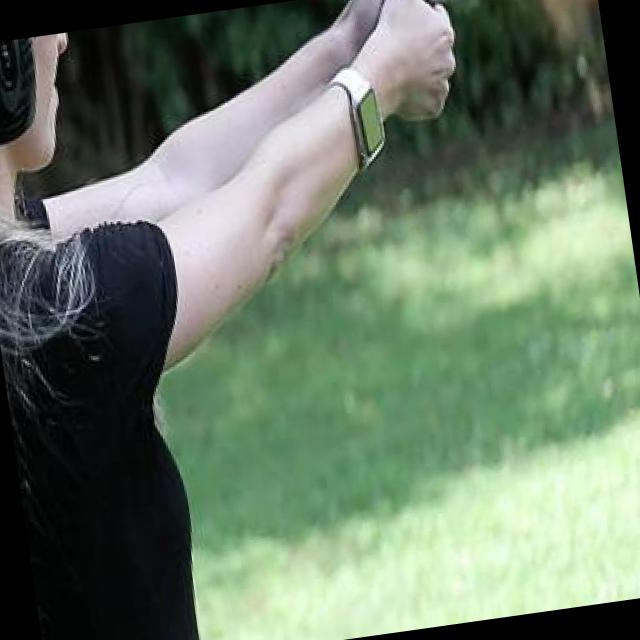Guns: (345, 0, 534, 31)
